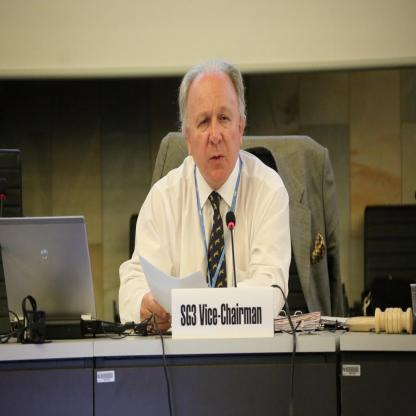board: (0, 212, 122, 333)
